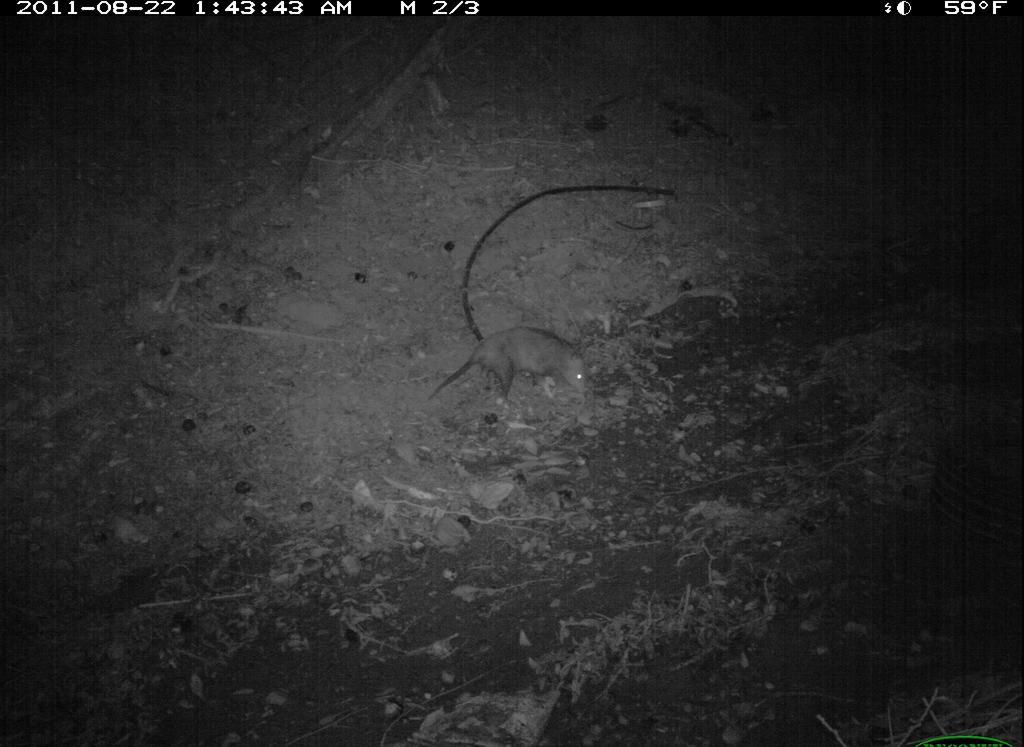opossum: (424, 322, 598, 415)
